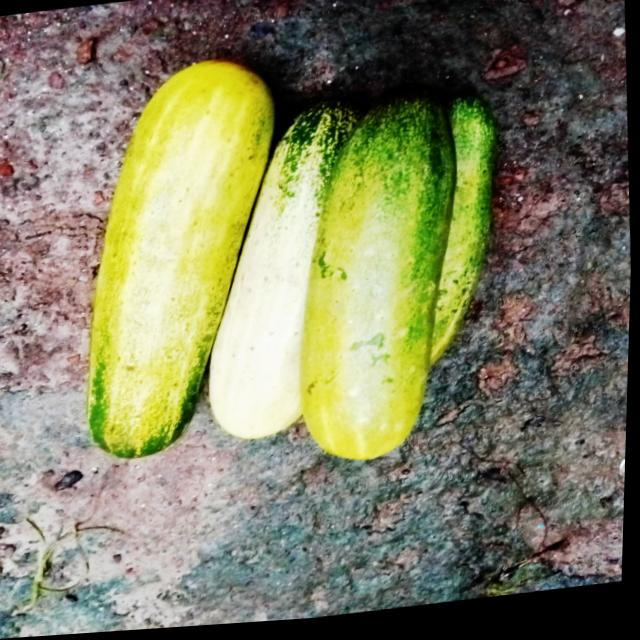Fresh-Cucumber: (70, 56, 295, 469), (284, 86, 476, 477), (193, 101, 381, 450), (417, 93, 510, 376)
